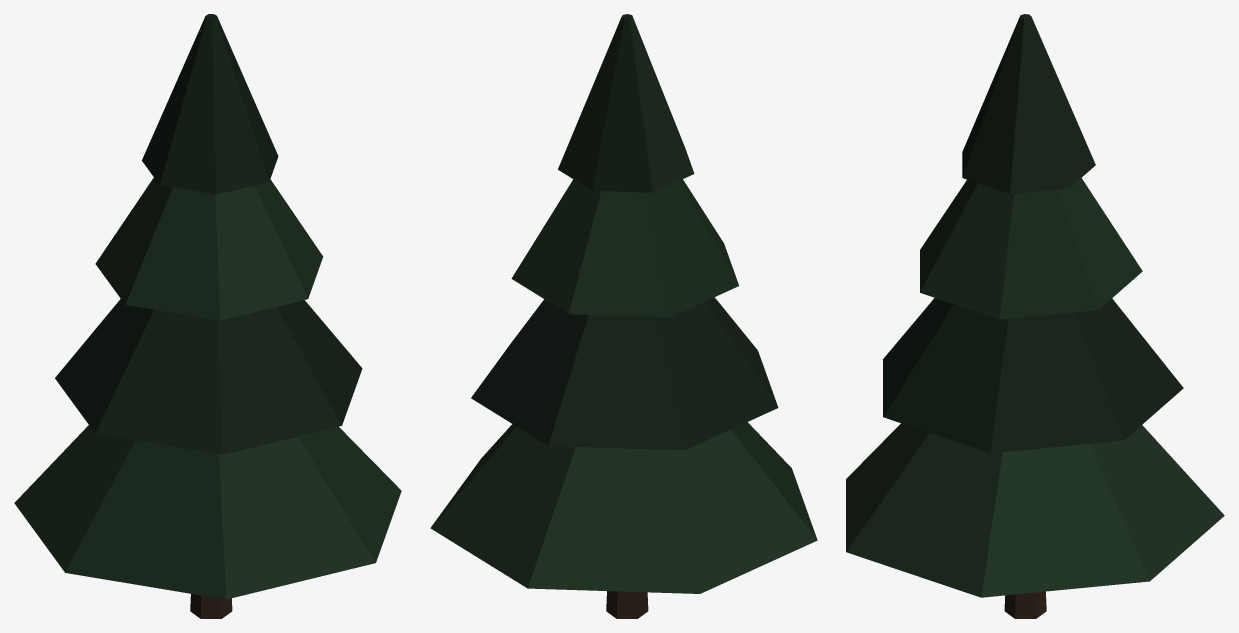
The model's file is pine.glb.
3 views of the same model, side by side, from view 1: azimuth 30°, elevation 25°; view 2: azimuth 150°, elevation 25°; view 3: azimuth 270°, elevation 25° (orthographic).
Visible parts, largest first — view 1: Pine; view 2: Pine; view 3: Pine.
Boxes of the visible parts, <box> form: Pine: <box>14,14,401,618</box>; Pine: <box>430,14,817,618</box>; Pine: <box>846,14,1224,618</box>.
Bounding box in the file's own units: 3.31 × 5.6 × 3.23.
